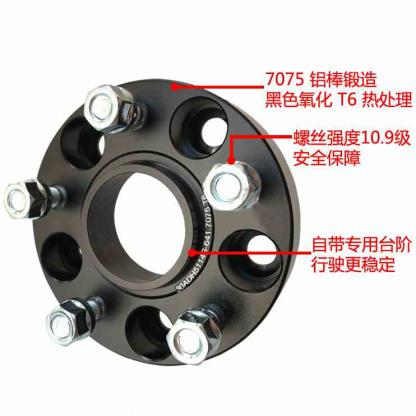FOD: (26, 71, 307, 378)
